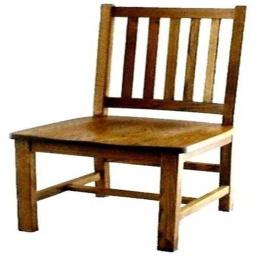Chair: (12, 6, 246, 252)
